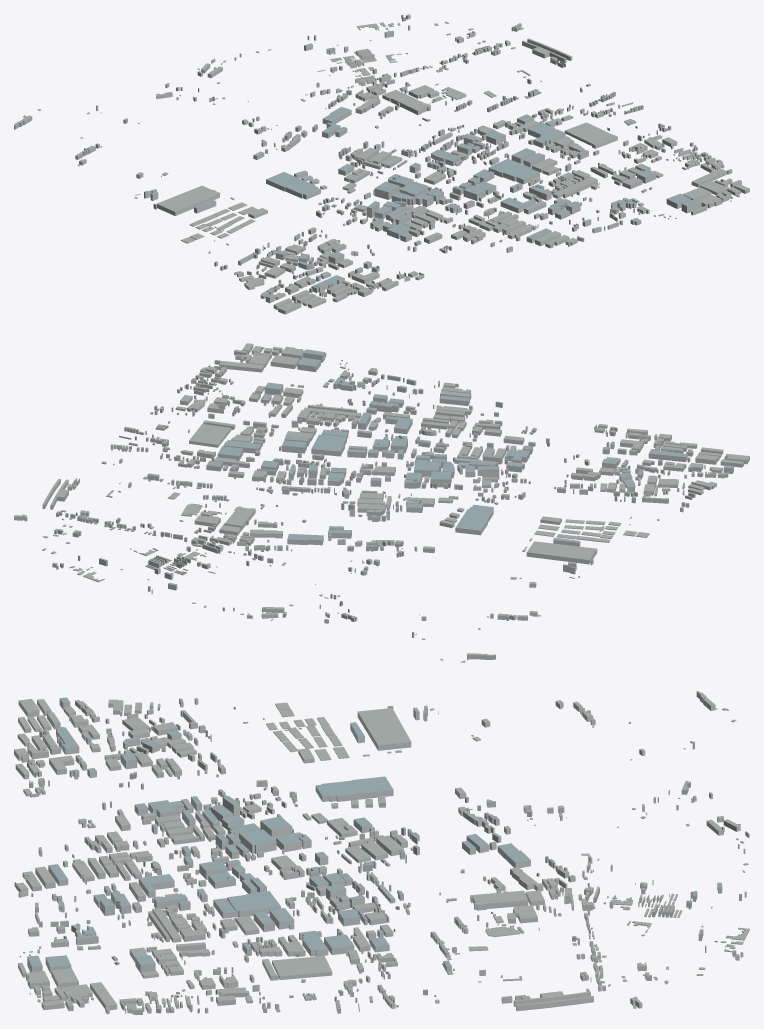
Rendered from far.glb.
3 views of the same model, one above another, from view 1: azimuth 30°, elevation 25°; view 2: azimuth 150°, elevation 25°; view 3: azimuth 270°, elevation 25° (orthographic). The views are drawn at different scales.
Bounding box in the file's own units: 2161 × 41.38 × 2110.
